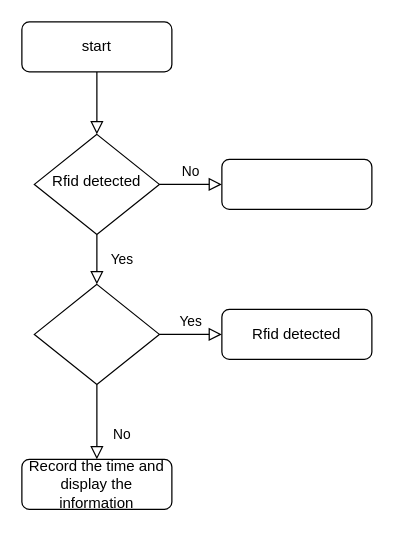
This 394x533 diagram has some shape labels left out. Each missing label, with the centre of its shape:
Input students: (x=296, y=183)
Registered Students: (x=96, y=333)
